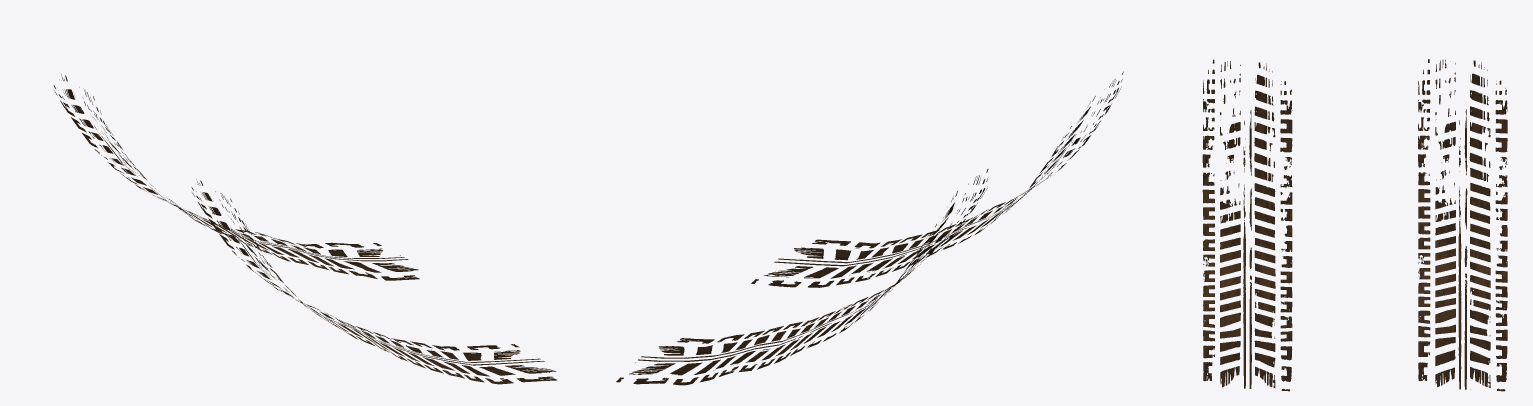
Rendered from dirt_tire_track_ramp.fbx.
The picture shows the model from 3 angles, left to right: view 1: azimuth 30°, elevation 25°; view 2: azimuth 150°, elevation 25°; view 3: azimuth 270°, elevation 25°; orthographic projection. The views are drawn at different scales.
Parts seen in each view (by area): view 1: tire_track_curved1, tire_track_curved; view 2: tire_track_curved, tire_track_curved1; view 3: tire_track_curved, tire_track_curved1.
Boxes of the visible parts, x1=… form: tire_track_curved1: x1=191, y1=179, x2=556, y2=384; tire_track_curved: x1=53, y1=74, x2=419, y2=280; tire_track_curved: x1=616, y1=168, x2=988, y2=385; tire_track_curved1: x1=751, y1=71, x2=1123, y2=287; tire_track_curved: x1=1418, y1=59, x2=1507, y2=391; tire_track_curved1: x1=1202, y1=59, x2=1292, y2=391.
Size of the model in its own units: 1118 by 940 by 1157.
1 material, 1 textured.
